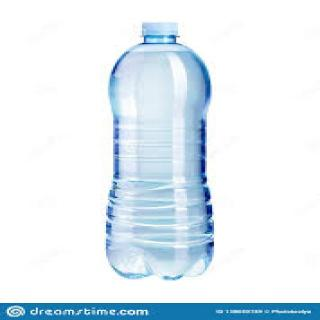Anorganik: (99, 15, 233, 286)
